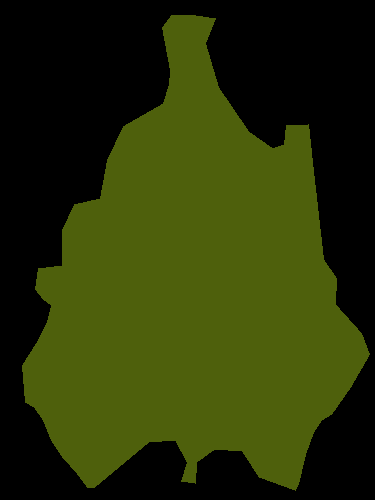Train: (22, 15, 370, 491)
